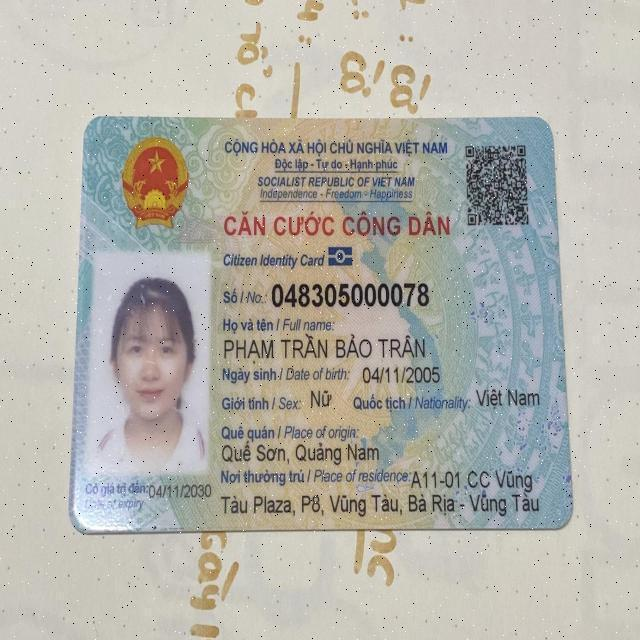current_place: (217, 493, 545, 518), (411, 466, 536, 492)
dob: (360, 362, 442, 385)
expire_date: (147, 482, 213, 502)
gender: (309, 383, 332, 410)
id: (269, 281, 432, 310)
name: (223, 333, 429, 364)
nationality: (473, 380, 542, 408)
origin_place: (218, 439, 382, 464)
